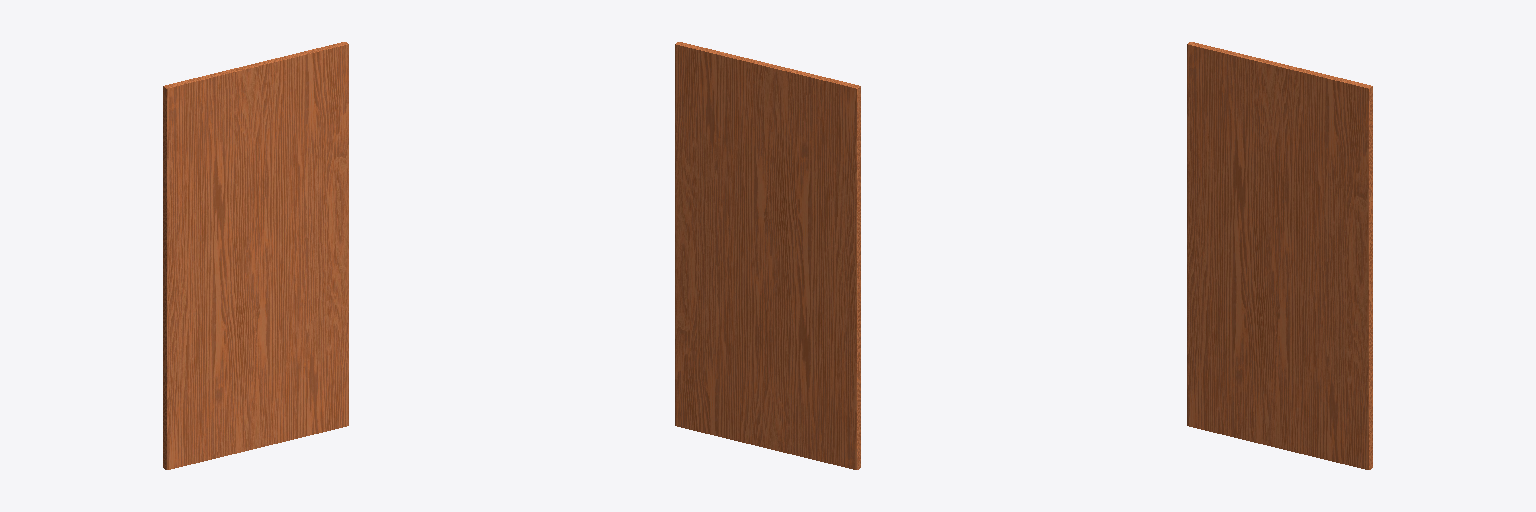
3 renders of one model, left to right at view 1: azimuth 30°, elevation 25°; view 2: azimuth 150°, elevation 25°; view 3: azimuth 330°, elevation 25°, orthographic.
Size of the model in its own units: 0.6909 by 1.38 by 0.025.
Materials: 1 (1 with a texture image).